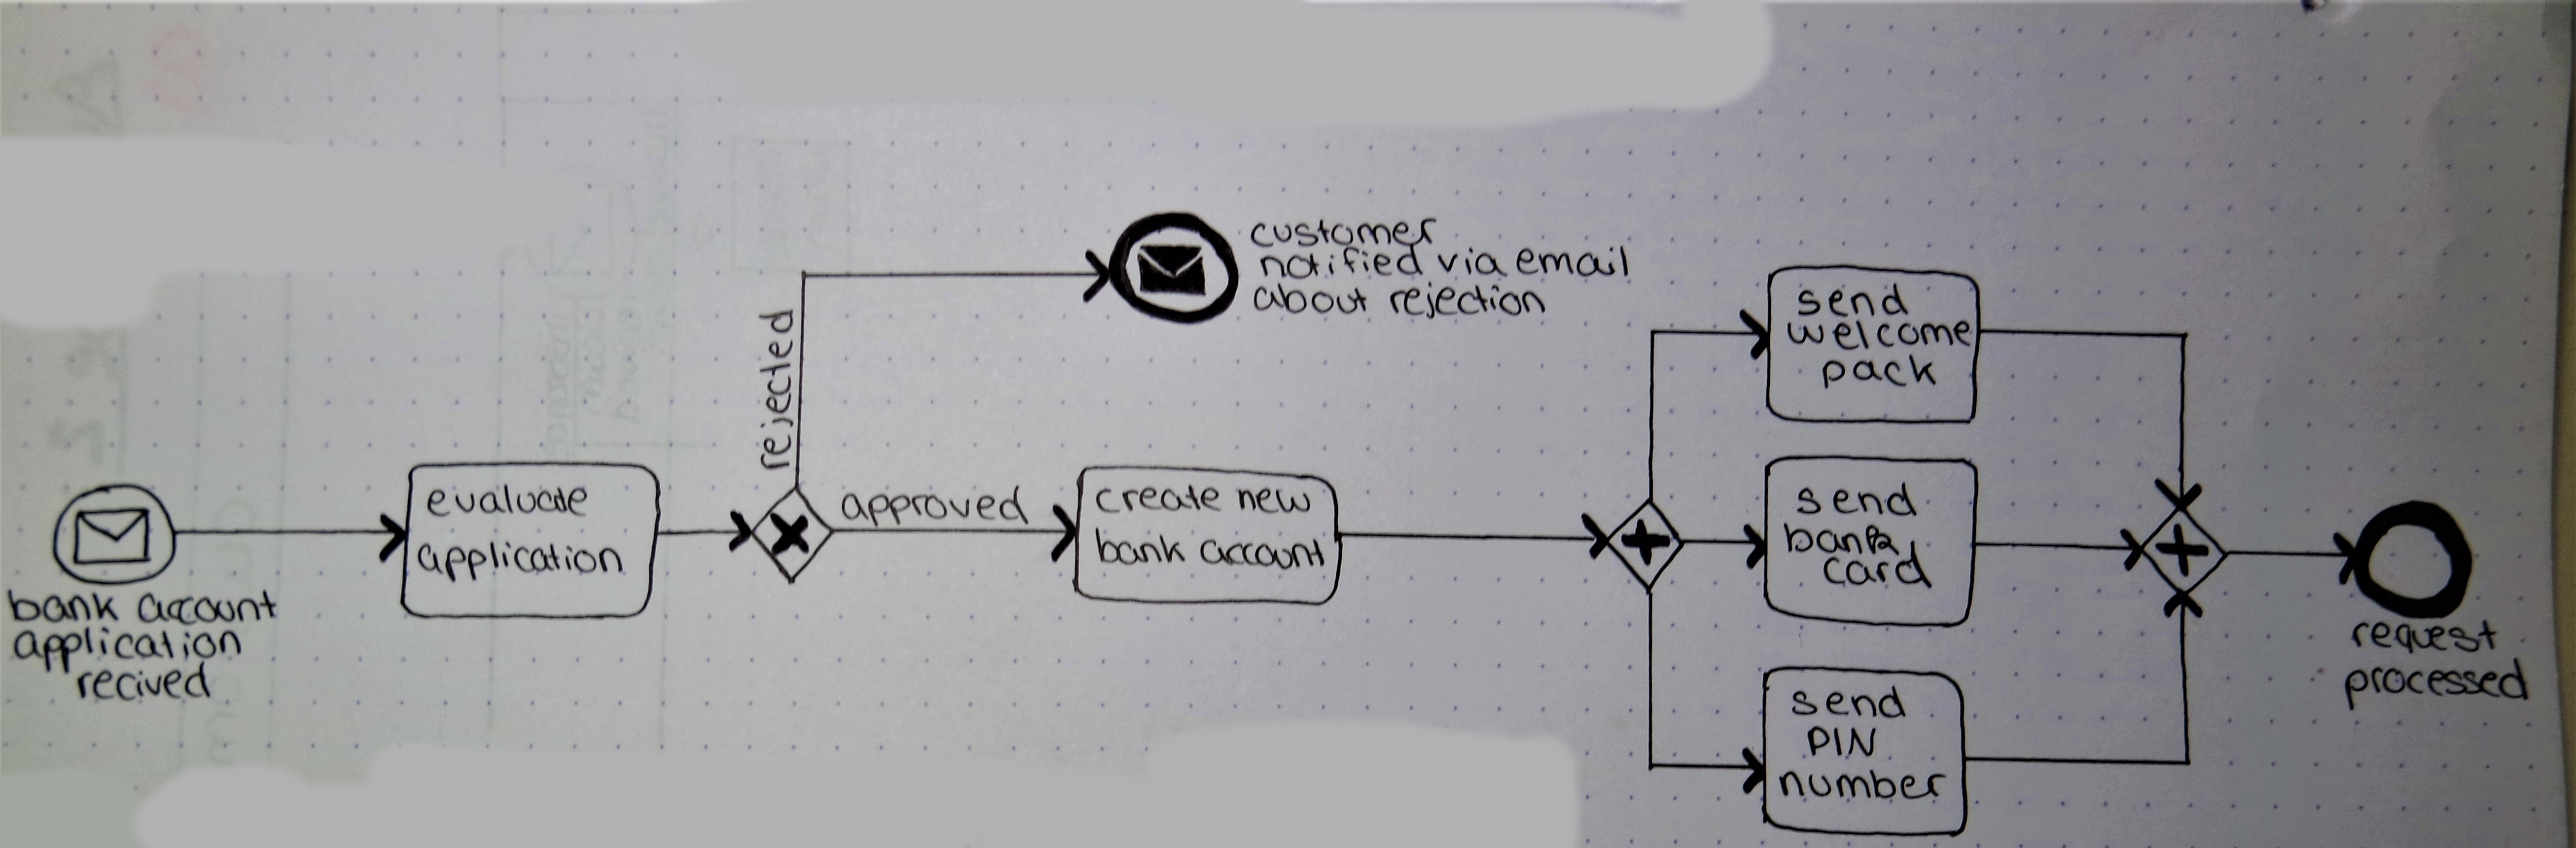PIN: (1805, 725, 1883, 759)
about: (1247, 284, 1380, 320)
account: (1194, 523, 1324, 572)
acount: (135, 587, 279, 626)
application: (417, 536, 628, 582), (0, 626, 253, 664)
approved: (835, 478, 1033, 529)
bank: (1774, 518, 1906, 555), (1092, 528, 1198, 569), (0, 590, 118, 626)
card: (1819, 557, 1930, 600)
create: (1092, 482, 1229, 518)
customer: (1250, 210, 1442, 248)
email: (1511, 242, 1631, 284)
evaluate: (429, 482, 588, 521)
new: (1235, 483, 1313, 518)
notified: (1255, 247, 1436, 284)
number: (1773, 764, 1947, 804)
pack: (1817, 353, 1939, 391)
processed: (2343, 656, 2532, 715)
recived: (71, 661, 219, 707)
rejected: (754, 307, 797, 477)
rejection: (1385, 284, 1548, 320)
request: (2349, 618, 2507, 654)
send: (1794, 478, 1922, 519), (1786, 682, 1904, 721), (1792, 279, 1911, 319)
via: (1434, 242, 1513, 281)
welcome: (1784, 316, 1973, 350)
